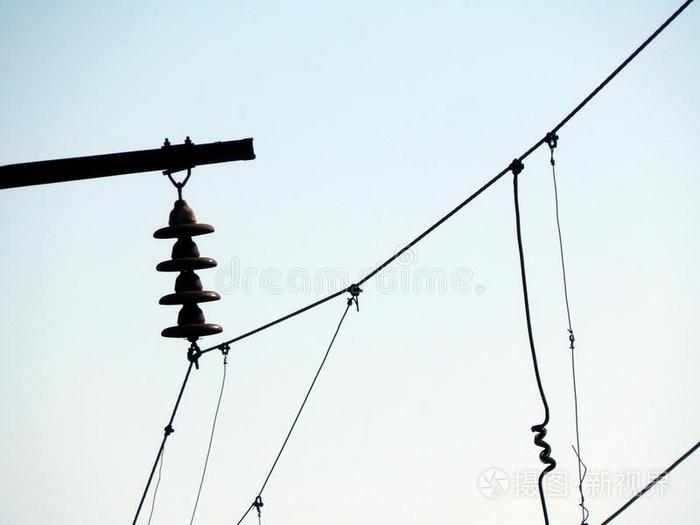insulator: (152, 221, 226, 340)
